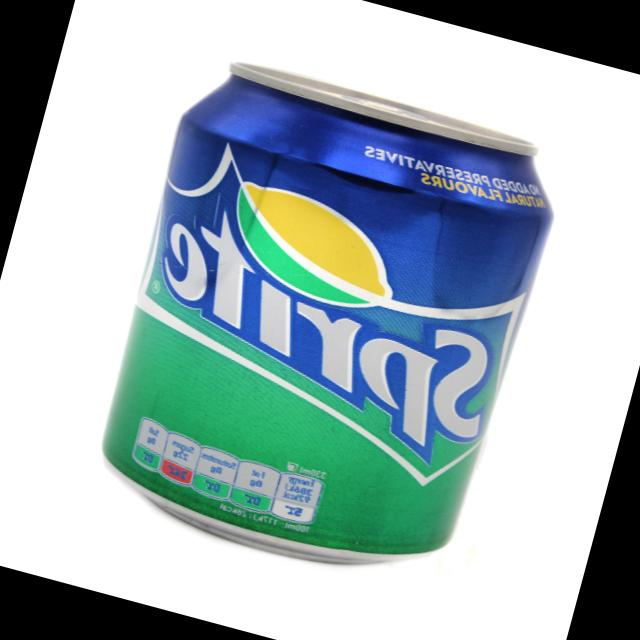sprite: (70, 41, 586, 610)
